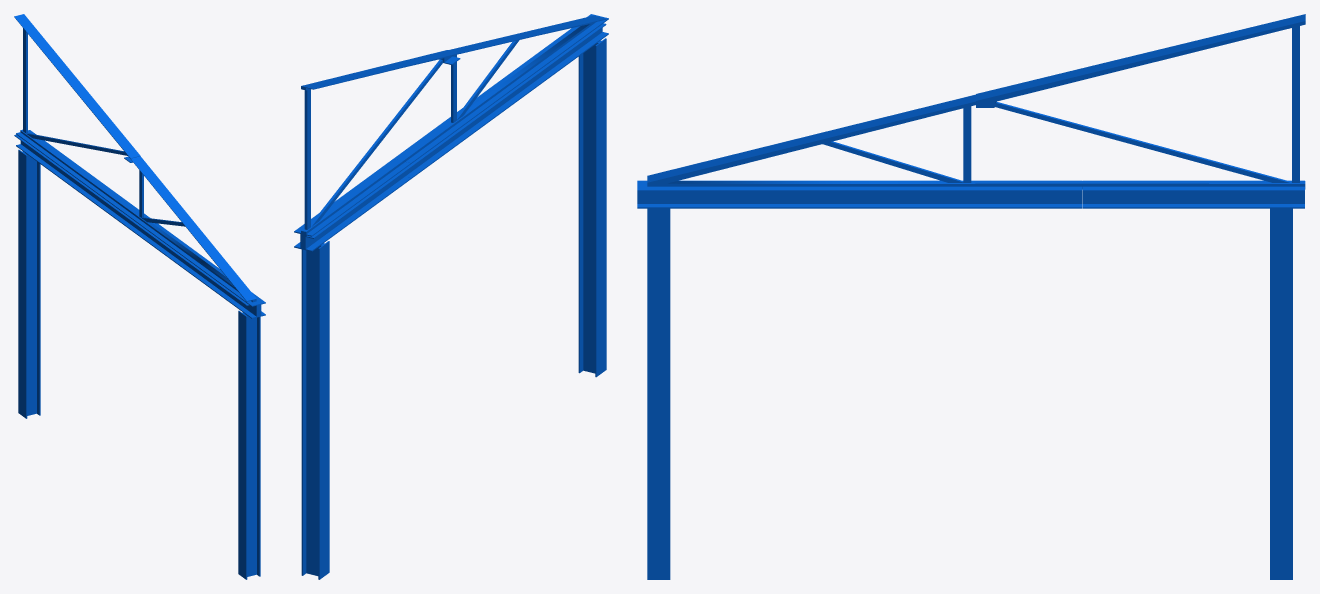
Rendered from Warehouse_05_Metal_01.fbx.
3 views of the same model, side by side, from view 1: azimuth 30°, elevation 25°; view 2: azimuth 150°, elevation 25°; view 3: azimuth 270°, elevation 25° (orthographic). The views are drawn at different scales.
Parts seen in each view (by area): view 1: Warehouse_05_Metal_01; view 2: Warehouse_05_Metal_01; view 3: Warehouse_05_Metal_01.
Part boxes in pixels (x1,y1,x2,y2): Warehouse_05_Metal_01: (14,14,265,579); Warehouse_05_Metal_01: (294,14,608,579); Warehouse_05_Metal_01: (637,14,1305,579).
Bounding box in the file's own units: 31.73 × 747 × 813.
